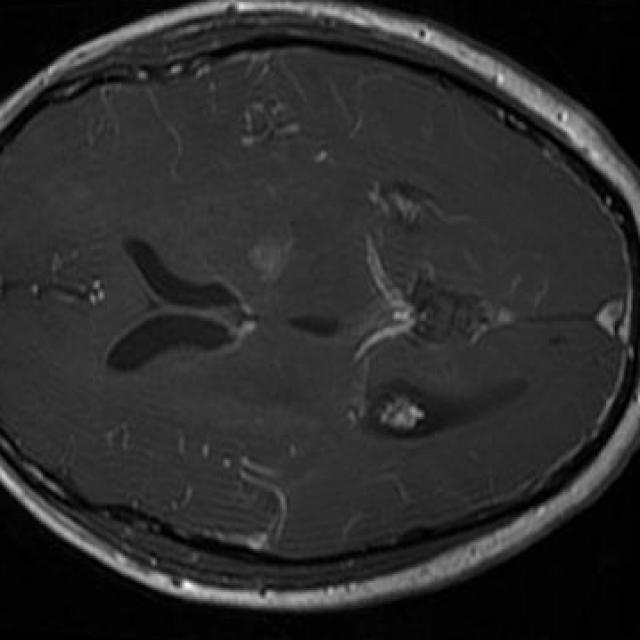glioma: (248, 225, 296, 276)
